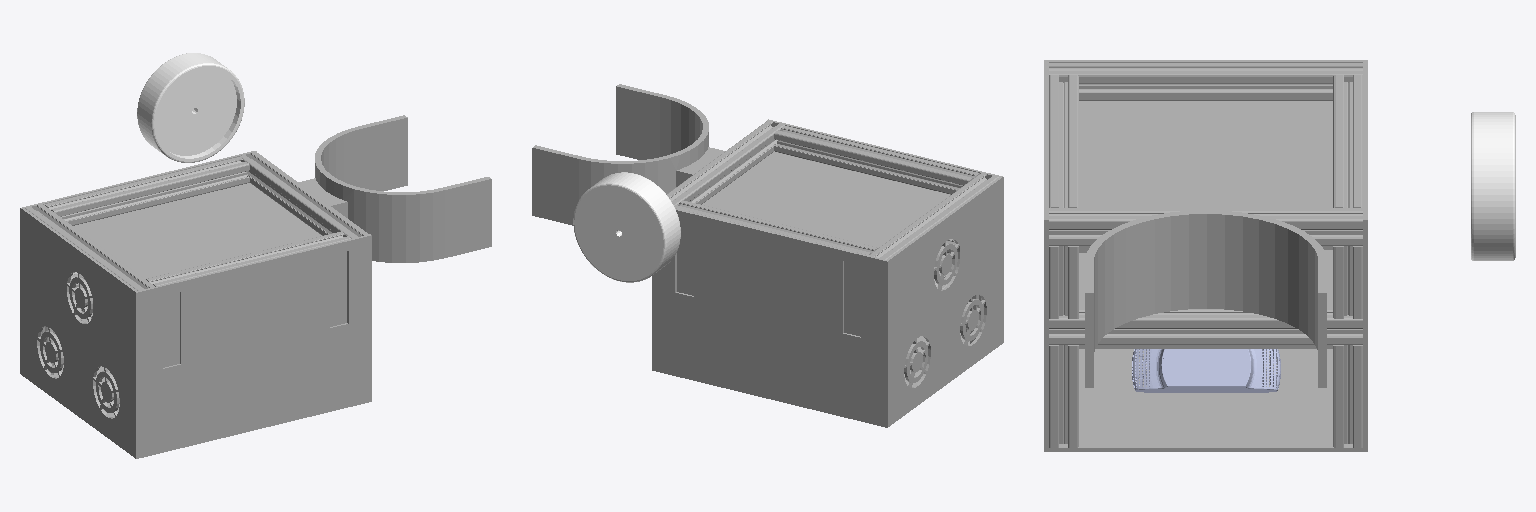
URDF robot description (05147):
<?xml version="1.0" encoding="utf-8"?>
<!-- This URDF was automatically created by SolidWorks to URDF Exporter! Originally created by [author] ([email redacted]) 
     Commit Version: 1.5.1-0-g916b5db  Build Version: 1.5.7152.31018
     For more information, please see http://wiki.ros.org/sw_urdf_exporter -->
<robot
  name="05147">
  <link
    name="Base">
    <inertial>
      <origin
        xyz="0.307939482852255 0.0328657288246075 -0.0284063356583994"
        rpy="0 0 0" />
      <mass
        value="5.32485368404392" />
      <inertia
        ixx="0.0149047739356473"
        ixy="1.47975231732829E-06"
        ixz="7.80337094206553E-06"
        iyy="0.0219378727246539"
        iyz="-4.0175158993363E-06"
        izz="0.0232030208257597" />
    </inertial>
    <visual>
      <origin
        xyz="0 0 0"
        rpy="0 0 0" />
      <geometry>
        <mesh
          filename="package://05147/meshes/Base.STL" />
      </geometry>
      <material
        name="">
        <color
          rgba="0.752941176470588 0.752941176470588 0.752941176470588 1" />
      </material>
    </visual>
    <collision>
      <origin
        xyz="0 0 0"
        rpy="0 0 0" />
      <geometry>
        <mesh
          filename="package://05147/meshes/Base.STL" />
      </geometry>
    </collision>
  </link>
  <link
    name="LFS">
    <inertial>
      <origin
        xyz="0.0666875210853829 -0.0254641293387147 0.0267759026382747"
        rpy="0 0 0" />
      <mass
        value="0.26437001106022" />
      <inertia
        ixx="3.20746276473044E-05"
        ixy="-1.44118283518155E-07"
        ixz="-6.3085308435424E-08"
        iyy="6.22704126338821E-05"
        iyz="-2.01894652761256E-07"
        izz="6.28519936953906E-05" />
    </inertial>
    <visual>
      <origin
        xyz="0 0 0"
        rpy="0 0 0" />
      <geometry>
        <mesh
          filename="package://05147/meshes/LFS.STL" />
      </geometry>
      <material
        name="">
        <color
          rgba="0.752941176470588 0.752941176470588 0.752941176470588 1" />
      </material>
    </visual>
    <collision>
      <origin
        xyz="0 0 0"
        rpy="0 0 0" />
      <geometry>
        <mesh
          filename="package://05147/meshes/LFS.STL" />
      </geometry>
    </collision>
  </link>
  <joint
    name="LFS"
    type="prismatic">
    <origin
      xyz="0.399436570242162 -0.17341012423842 0.00422954428193555"
      rpy="-0.307630277882593 0 1.5707963267949" />
    <parent
      link="Base" />
    <child
      link="LFS" />
    <axis
      xyz="0 0.302801016091279 -0.953053799454201" />
    <limit
      lower="0"
      upper="0"
      effort="0"
      velocity="0" />
  </joint>
  <link
    name="LFW">
    <inertial>
      <origin
        xyz="-0.012315724574073 0 0"
        rpy="0 0 0" />
      <mass
        value="0.193585420779862" />
      <inertia
        ixx="0.000253081141332254"
        ixy="-5.88092833198904E-37"
        ixz="5.1845054750851E-21"
        iyy="0.000136818598566517"
        iyz="7.17557753438369E-37"
        izz="0.000136818598566517" />
    </inertial>
    <visual>
      <origin
        xyz="0 0 0"
        rpy="0 0 0" />
      <geometry>
        <mesh
          filename="package://05147/meshes/LFW.STL" />
      </geometry>
      <material
        name="">
        <color
          rgba="1 1 1 1" />
      </material>
    </visual>
    <collision>
      <origin
        xyz="0 0 0"
        rpy="0 0 0" />
      <geometry>
        <mesh
          filename="package://05147/meshes/LFW.STL" />
      </geometry>
    </collision>
  </link>
  <joint
    name="LFW"
    type="continuous">
    <origin
      xyz="0.000410991135076755 -0.0473256302288177 0.0518267010922029"
      rpy="-1.87071350905913 0 -3.14159265358979" />
    <parent
      link="LFS" />
    <child
      link="LFW" />
    <axis
      xyz="1 0 0" />
    <limit
      effort="3.1"
      velocity="7" />
  </joint>
  <link
    name="RFS">
    <inertial>
      <origin
        xyz="0.0724473276378515 -0.0316254871785929 0.0251584272220134"
        rpy="0 0 0" />
      <mass
        value="0.264370011060221" />
      <inertia
        ixx="3.20746276473045E-05"
        ixy="1.44118283518171E-07"
        ixz="6.30853084354421E-08"
        iyy="6.22704126338823E-05"
        iyz="-2.01894652761264E-07"
        izz="6.28519936953909E-05" />
    </inertial>
    <visual>
      <origin
        xyz="0 0 0"
        rpy="0 0 0" />
      <geometry>
        <mesh
          filename="package://05147/meshes/RFS.STL" />
      </geometry>
      <material
        name="">
        <color
          rgba="0.752941176470588 0.752941176470588 0.752941176470588 1" />
      </material>
    </visual>
    <collision>
      <origin
        xyz="0 0 0"
        rpy="0 0 0" />
      <geometry>
        <mesh
          filename="package://05147/meshes/RFS.STL" />
      </geometry>
    </collision>
  </link>
  <joint
    name="RFS"
    type="prismatic">
    <origin
      xyz="0.43812027832165 0.246671664584202 0.00391412689968431"
      rpy="-0.307630277882593 0 -1.5707963267949" />
    <parent
      link="Base" />
    <child
      link="RFS" />
    <axis
      xyz="0 0.302801016091278 -0.953053799454201" />
    <limit
      lower="0"
      upper="0"
      effort="0"
      velocity="0" />
  </joint>
  <link
    name="RFW">
    <inertial>
      <origin
        xyz="-0.0123157245740731 0 1.38777878078145E-17"
        rpy="0 0 0" />
      <mass
        value="0.193585420779862" />
      <inertia
        ixx="0.000253081141332254"
        ixy="-1.23497249055924E-21"
        ixz="2.07163812308337E-21"
        iyy="0.000136818598566517"
        iyz="-3.3881317890172E-21"
        izz="0.000136818598566517" />
    </inertial>
    <visual>
      <origin
        xyz="0 0 0"
        rpy="0 0 0" />
      <geometry>
        <mesh
          filename="package://05147/meshes/RFW.STL" />
      </geometry>
      <material
        name="">
        <color
          rgba="1 1 1 1" />
      </material>
    </visual>
    <collision>
      <origin
        xyz="0 0 0"
        rpy="0 0 0" />
      <geometry>
        <mesh
          filename="package://05147/meshes/RFW.STL" />
      </geometry>
    </collision>
  </link>
  <joint
    name="RFW"
    type="continuous">
    <origin
      xyz="0.00617079768754525 -0.0282283703997553 0.0582235217032619"
      rpy="-0.707139785690462 0 3.14159265358979" />
    <parent
      link="RFS" />
    <child
      link="RFW" />
    <axis
      xyz="1 0 0" />
    <limit
      effort="3.1"
      velocity="7" />
  </joint>
  <link
    name="LBS">
    <inertial>
      <origin
        xyz="0.0754022136877308 -0.0205417144756382 0.0124394069979403"
        rpy="0 0 0" />
      <mass
        value="0.197009126147877" />
      <inertia
        ixx="1.68802738687173E-05"
        ixy="-1.31305180801582E-21"
        ixz="1.60621727337229E-20"
        iyy="5.0218488566757E-05"
        iyz="1.0508875929185E-06"
        izz="4.72447473350487E-05" />
    </inertial>
    <visual>
      <origin
        xyz="0 0 0"
        rpy="0 0 0" />
      <geometry>
        <mesh
          filename="package://05147/meshes/LBS.STL" />
      </geometry>
      <material
        name="">
        <color
          rgba="0.752941176470588 0.752941176470588 0.752941176470588 1" />
      </material>
    </visual>
    <collision>
      <origin
        xyz="0 0 0"
        rpy="0 0 0" />
      <geometry>
        <mesh
          filename="package://05147/meshes/LBS.STL" />
      </geometry>
    </collision>
  </link>
  <joint
    name="LBS"
    type="prismatic">
    <origin
      xyz="0.219436570242162 -0.17341012423842 0.0125771650360316"
      rpy="-0.307630277882593 0 1.5707963267949" />
    <parent
      link="Base" />
    <child
      link="LBS" />
    <axis
      xyz="0 0.302801016091285 -0.953053799454199" />
    <limit
      lower="0"
      upper="0"
      effort="0"
      velocity="0" />
  </joint>
  <link
    name="LBC">
    <inertial>
      <origin
        xyz="0.000464526735875104 -0.0408268141997156 -2.77555756156289E-17"
        rpy="0 0 0" />
      <mass
        value="0.043396245960262" />
      <inertia
        ixx="2.1180042472488E-05"
        ixy="5.53822046363834E-07"
        ixz="1.7205356741103E-22"
        iyy="1.76453344713605E-06"
        iyz="-2.20642156592395E-20"
        izz="2.14947085785555E-05" />
    </inertial>
    <visual>
      <origin
        xyz="0 0 0"
        rpy="0 0 0" />
      <geometry>
        <mesh
          filename="package://05147/meshes/LBC.STL" />
      </geometry>
      <material
        name="">
        <color
          rgba="0.898039215686275 0.917647058823529 0.929411764705882 1" />
      </material>
    </visual>
    <collision>
      <origin
        xyz="0 0 0"
        rpy="0 0 0" />
      <geometry>
        <mesh
          filename="package://05147/meshes/LBC.STL" />
      </geometry>
    </collision>
  </link>
  <joint
    name="LBC"
    type="continuous">
    <origin
      xyz="0.0411609911350767 -0.0167580647011466 0.000530524260584295"
      rpy="-1.87842355251803 -0.00139263512405277 3.13720937469085" />
    <parent
      link="LBS" />
    <child
      link="LBC" />
    <axis
      xyz="0 1 0" />
  </joint>
  <link
    name="LBW">
    <inertial>
      <origin
        xyz="0.00647268691618069 1.38777878078145E-17 2.77555756156289E-17"
        rpy="0 0 0" />
      <mass
        value="0.0368891747697499" />
      <inertia
        ixx="1.67269024516251E-05"
        ixy="1.7292210705421E-21"
        ixz="-4.76786905075565E-21"
        iyy="8.8792623904253E-06"
        iyz="2.11758236813575E-22"
        izz="8.8792623904253E-06" />
    </inertial>
    <visual>
      <origin
        xyz="0 0 0"
        rpy="0 0 0" />
      <geometry>
        <mesh
          filename="package://05147/meshes/LBW.STL" />
      </geometry>
      <material
        name="">
        <color
          rgba="1 1 1 1" />
      </material>
    </visual>
    <collision>
      <origin
        xyz="0 0 0"
        rpy="0 0 0" />
      <geometry>
        <mesh
          filename="package://05147/meshes/LBW.STL" />
      </geometry>
    </collision>
  </link>
  <joint
    name="LBW"
    type="continuous">
    <origin
      xyz="0.0095006 -0.0683 0"
      rpy="-2.9585 0 0" />
    <parent
      link="LBC" />
    <child
      link="LBW" />
    <axis
      xyz="1 0 0" />
    <limit
      effort="3.1"
      velocity="7" />
  </joint>
  <link
    name="RBS">
    <inertial>
      <origin
        xyz="0.0754022136877308 -0.0205794902065512 0.0125583045641975"
        rpy="0 0 0" />
      <mass
        value="0.197009126147877" />
      <inertia
        ixx="1.68802738687173E-05"
        ixy="-2.46238013369259E-21"
        ixz="6.53536558754259E-22"
        iyy="5.0218488566757E-05"
        iyz="1.0508875929185E-06"
        izz="4.72447473350487E-05" />
    </inertial>
    <visual>
      <origin
        xyz="0 0 0"
        rpy="0 0 0" />
      <geometry>
        <mesh
          filename="package://05147/meshes/RBS.STL" />
      </geometry>
      <material
        name="">
        <color
          rgba="0.752941176470588 0.752941176470588 0.752941176470588 1" />
      </material>
    </visual>
    <collision>
      <origin
        xyz="0 0 0"
        rpy="0 0 0" />
      <geometry>
        <mesh
          filename="package://05147/meshes/RBS.STL" />
      </geometry>
    </collision>
  </link>
  <joint
    name="RBS"
    type="prismatic">
    <origin
      xyz="0.25106 0.24091 0.012452"
      rpy="-0.30763 0 -1.5708" />
    <parent
      link="Base" />
    <child
      link="RBS" />
    <axis
      xyz="0 0.3028 -0.95305" />
    <limit
      lower="0"
      upper="0"
      effort="0"
      velocity="0" />
  </joint>
  <link
    name="RBC">
    <inertial>
      <origin
        xyz="0.000464526735875131 -0.0408268141997156 8.32667268468867E-17"
        rpy="0 0 0" />
      <mass
        value="0.0433962459602619" />
      <inertia
        ixx="2.11800424724879E-05"
        ixy="5.53822046363848E-07"
        ixz="-4.32646056105883E-22"
        iyy="1.76453344713605E-06"
        iyz="2.09764731537322E-20"
        izz="2.14947085785555E-05" />
    </inertial>
    <visual>
      <origin
        xyz="0 0 0"
        rpy="0 0 0" />
      <geometry>
        <mesh
          filename="package://05147/meshes/RBC.STL" />
      </geometry>
      <material
        name="">
        <color
          rgba="0.898039215686275 0.917647058823529 0.929411764705882 1" />
      </material>
    </visual>
    <collision>
      <origin
        xyz="0 0 0"
        rpy="0 0 0" />
      <geometry>
        <mesh
          filename="package://05147/meshes/RBC.STL" />
      </geometry>
    </collision>
  </link>
  <joint
    name="RBC"
    type="continuous">
    <origin
      xyz="0.0411609911350767 -0.0167958404320596 0.000649421826841648"
      rpy="-1.87842660467749 0 3.14159265358979" />
    <parent
      link="RBS" />
    <child
      link="RBC" />
    <axis
      xyz="0 1 0" />
  </joint>
  <link
    name="RBW">
    <inertial>
      <origin
        xyz="0.00647333333471939 -2.77555756156289E-17 1.38777878078145E-17"
        rpy="0 0 0" />
      <mass
        value="0.0368891747697499" />
      <inertia
        ixx="1.67269024516251E-05"
        ixy="-2.22678152353162E-21"
        ixz="-4.57890503447017E-22"
        iyy="8.87926239042531E-06"
        iyz="0"
        izz="8.8792623904253E-06" />
    </inertial>
    <visual>
      <origin
        xyz="0 0 0"
        rpy="0 0 0" />
      <geometry>
        <mesh
          filename="package://05147/meshes/RBW.STL" />
      </geometry>
      <material
        name="">
        <color
          rgba="1 1 1 1" />
      </material>
    </visual>
    <collision>
      <origin
        xyz="0 0 0"
        rpy="0 0 0" />
      <geometry>
        <mesh
          filename="package://05147/meshes/RBW.STL" />
      </geometry>
    </collision>
  </link>
  <joint
    name="RBW"
    type="continuous">
    <origin
      xyz="0.0095 -0.0683 0"
      rpy="0.98365 0 0" />
    <parent
      link="RBC" />
    <child
      link="RBW" />
    <axis
      xyz="1 0 0" />
    <limit
      effort="3.1"
      velocity="7" />
  </joint>
  <link
    name="Lidar">
    <inertial>
      <origin
        xyz="-0.0784930236720806 0.744427434110801 0.133449662205116"
        rpy="0 0 0" />
      <mass
        value="0.0730845741838002" />
      <inertia
        ixx="1.9580876083019E-05"
        ixy="-4.2839116122682E-07"
        ixz="1.03933621130234E-07"
        iyy="4.14184522502777E-05"
        iyz="-9.42743593249038E-09"
        izz="2.41250083307634E-05" />
    </inertial>
    <visual>
      <origin
        xyz="0 0 0"
        rpy="0 0 0" />
      <geometry>
        <mesh
          filename="package://05147/meshes/Lidar.STL" />
      </geometry>
      <material
        name="">
        <color
          rgba="0.792156862745098 0.819607843137255 0.933333333333333 1" />
      </material>
    </visual>
    <collision>
      <origin
        xyz="0 0 0"
        rpy="0 0 0" />
      <geometry>
        <mesh
          filename="package://05147/meshes/Lidar.STL" />
      </geometry>
    </collision>
  </link>
  <joint
    name="Lidar"
    type="fixed">
    <origin
      xyz="0.35169 -0.099167 0.60184"
      rpy="-1.5708 0 0" />
    <parent
      link="Base" />
    <child
      link="Lidar" />
    <axis
      xyz="0 0 0" />
  </joint>
  <link
    name="Front_Cam">
    <inertial>
      <origin
        xyz="0.0498359970771496 0.061783635914709 0.0687226592339399"
        rpy="0 0 0" />
      <mass
        value="0.0436119948521297" />
      <inertia
        ixx="4.2947913749771E-06"
        ixy="-8.85886294505224E-10"
        ixz="-1.01812872210199E-09"
        iyy="2.21058139310684E-05"
        iyz="2.17578140553956E-08"
        izz="2.35707056576044E-05" />
    </inertial>
    <visual>
      <origin
        xyz="0 0 0"
        rpy="0 0 0" />
      <geometry>
        <mesh
          filename="package://05147/meshes/Front_Cam.STL" />
      </geometry>
      <material
        name="">
        <color
          rgba="0.792156862745098 0.819607843137255 0.933333333333333 1" />
      </material>
    </visual>
    <collision>
      <origin
        xyz="0 0 0"
        rpy="0 0 0" />
      <geometry>
        <mesh
          filename="package://05147/meshes/Front_Cam.STL" />
      </geometry>
    </collision>
  </link>
  <joint
    name="Front_Cam"
    type="fixed">
    <origin
      xyz="0.36997 0.08359 -0.039354"
      rpy="-1.5708 0 -1.5708" />
    <parent
      link="Base" />
    <child
      link="Front_Cam" />
    <axis
      xyz="0 0 0" />
  </joint>
  <link
    name="Ball_cam">
    <inertial>
      <origin
        xyz="0.049835996905416 0.061783634979344 0.0687226595626673"
        rpy="0 0 0" />
      <mass
        value="0.0436119951735671" />
      <inertia
        ixx="4.29479052042015E-06"
        ixy="-8.85250524039298E-10"
        ixz="-1.01843894202854E-09"
        iyy="2.21058148306726E-05"
        iyz="2.17581061750883E-08"
        izz="2.35707057120251E-05" />
    </inertial>
    <visual>
      <origin
        xyz="0 0 0"
        rpy="0 0 0" />
      <geometry>
        <mesh
          filename="package://05147/meshes/Ball_cam.STL" />
      </geometry>
      <material
        name="">
        <color
          rgba="0.792156862745098 0.819607843137255 0.933333333333333 1" />
      </material>
    </visual>
    <collision>
      <origin
        xyz="0 0 0"
        rpy="0 0 0" />
      <geometry>
        <mesh
          filename="package://05147/meshes/Ball_cam.STL" />
      </geometry>
    </collision>
  </link>
  <joint
    name="Ball_cam"
    type="fixed">
    <origin
      xyz="0.348557334886622 0.083757378780411 -0.0526888416954217"
      rpy="-0.939475073990972 0 -1.5707963267949" />
    <parent
      link="Base" />
    <child
      link="Ball_cam" />
    <axis
      xyz="0 0 0" />
  </joint>
</robot>

--- Facts derived from the render (not from the file) ---
3 views of the same robot in one strip: view 1: azimuth 30°, elevation 25°; view 2: azimuth 150°, elevation 25°; view 3: azimuth 270°, elevation 25° (orthographic).
Robot: 05147 — 14 links, 13 joints (6 continuous, 4 prismatic, 3 fixed); root link Base; default pose: all joints at 0.
Visible links, largest first — view 1: Base, RFW; view 2: Base, RFW; view 3: Base, RFW, Ball_cam.
Boxes of the visible links, <box> form: Base: <box>20,115,491,458</box>; RFW: <box>137,53,244,162</box>; Base: <box>532,84,1003,427</box>; RFW: <box>573,172,680,282</box>; Base: <box>1044,60,1367,451</box>; RFW: <box>1471,112,1515,260</box>; Ball_cam: <box>1132,349,1280,392</box>.
Bounding box of the posed robot: 0.3973 × 0.3148 × 0.2358 m (x, y, z).
3 mesh visuals loaded from 14 distinct referenced files (3 binary STL); not drawn: 11 (reference not matched to a file when rendering).